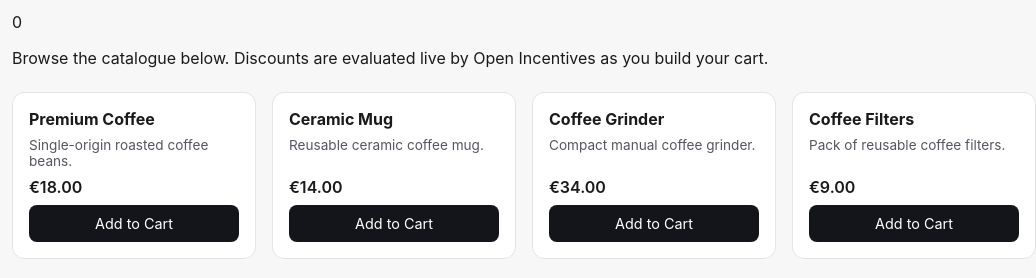
it: StorefrontPage › adds a product to the cart
This screenshot has width=1036, height=278.
Click the button "Add to Cart" below "€18.00". click: (134, 224)
box: left=29, top=205, right=239, bottom=242
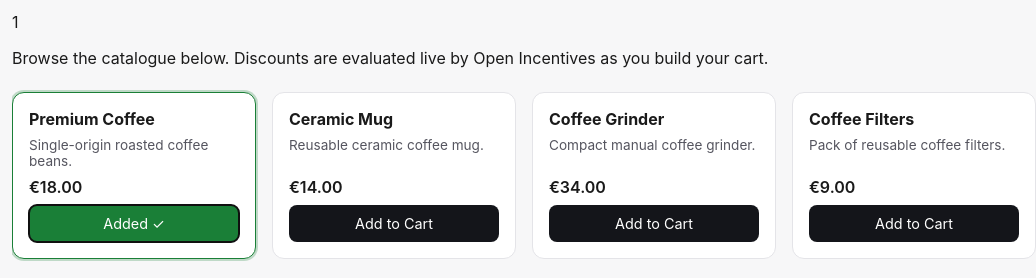
Check: the text with test id "item-count" reads "1", box left=12, top=12, right=18, bottom=32
